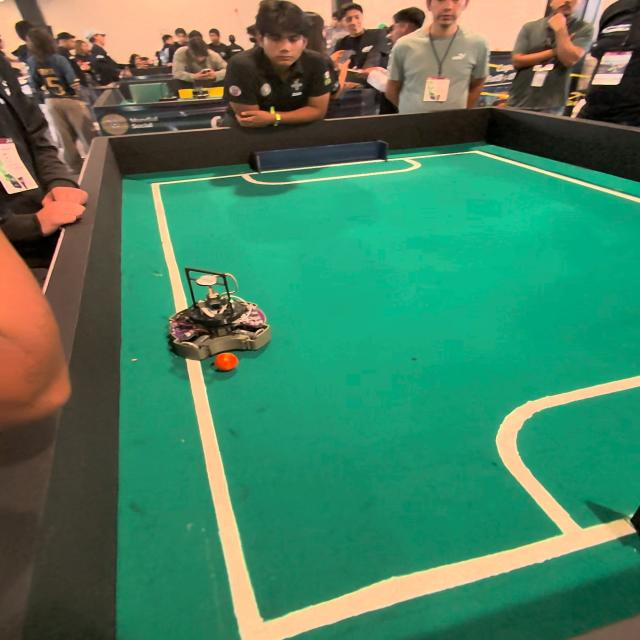Robot: (169, 272, 270, 360)
pelota: (206, 351, 246, 378)
